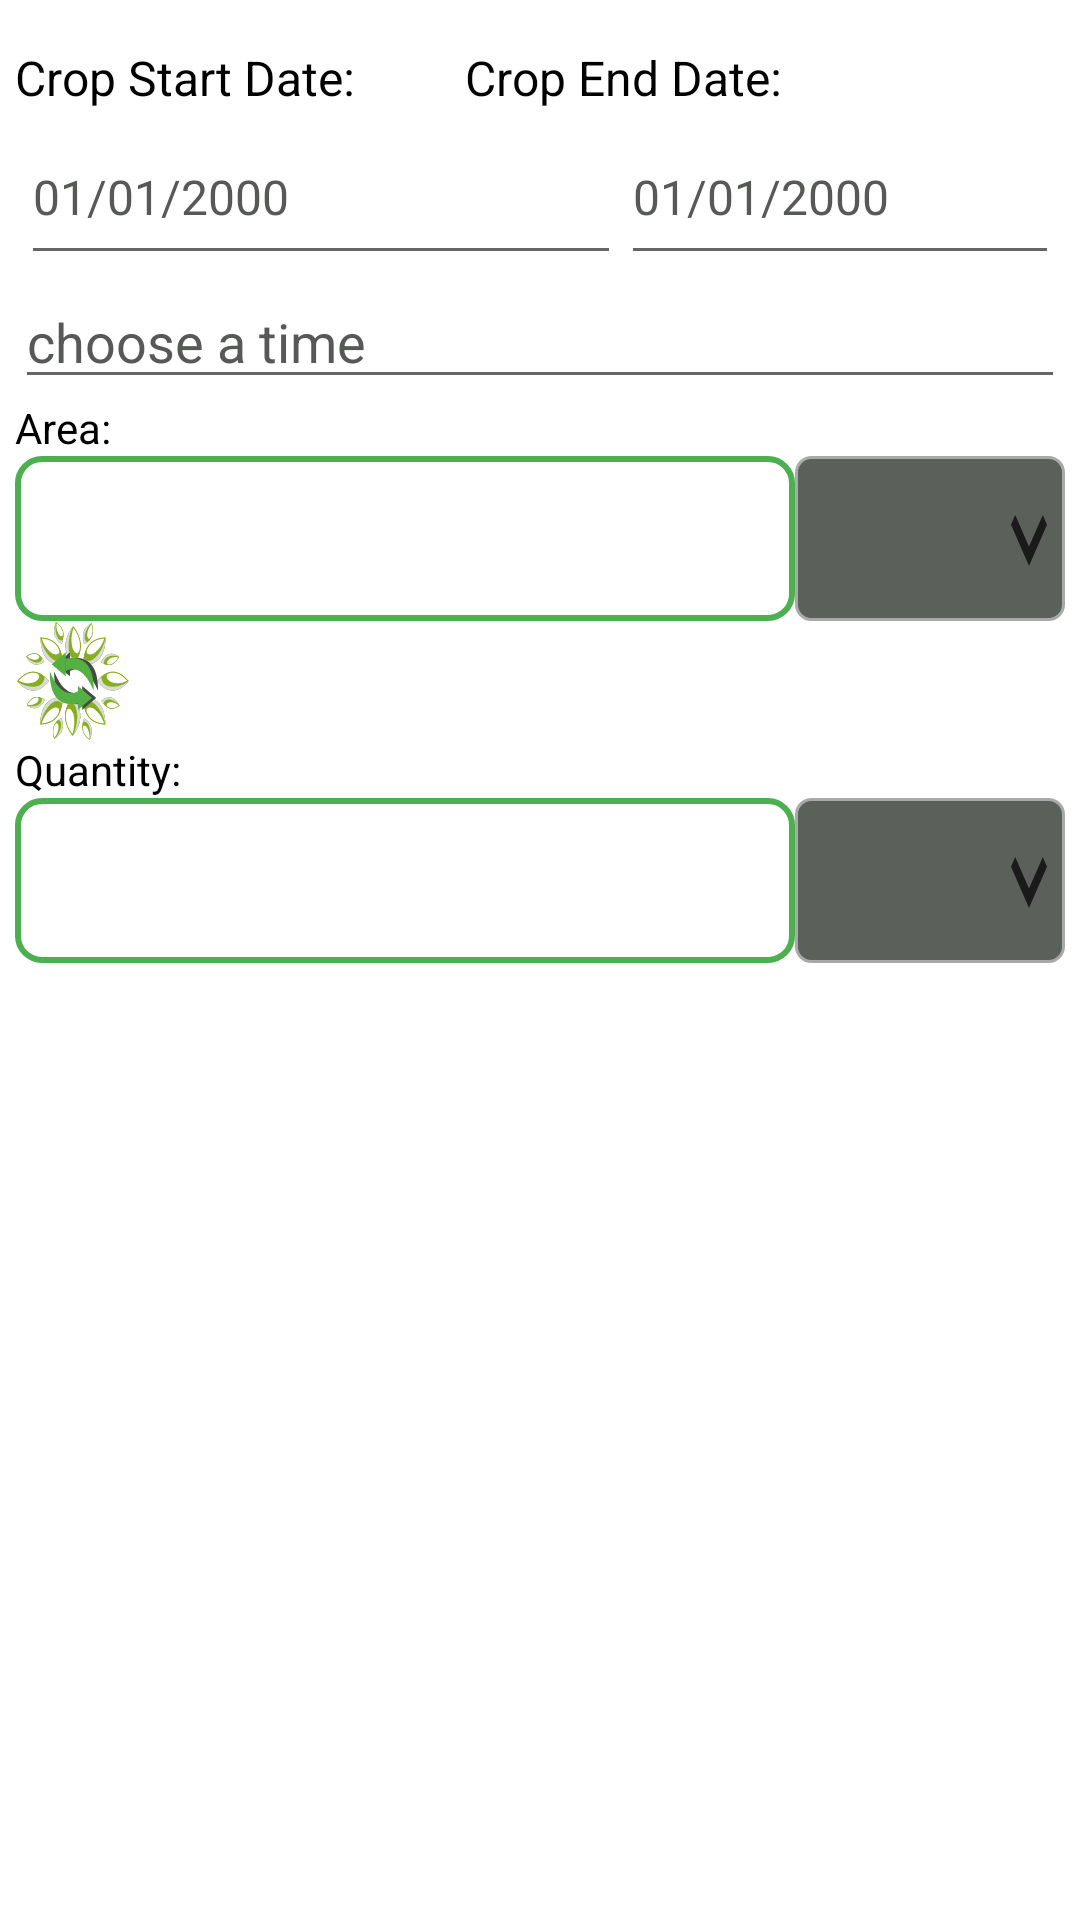

Icons on this 1080 x 1920 Android screen, each with its box as (x1, y1, x2, y2):
converter: (17, 622, 129, 740)
